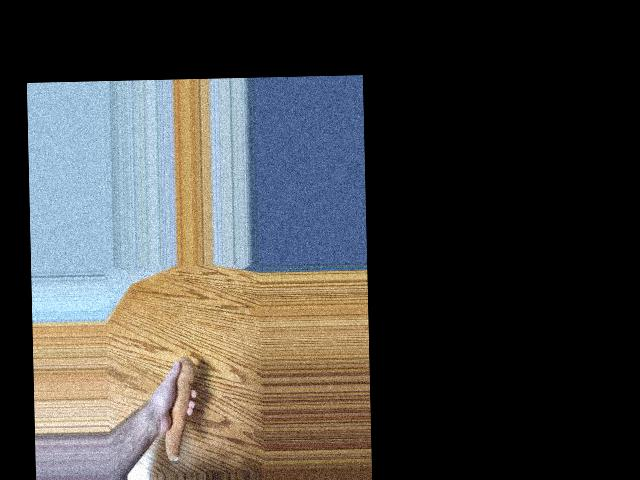sweet_potato: (159, 357, 198, 465)
